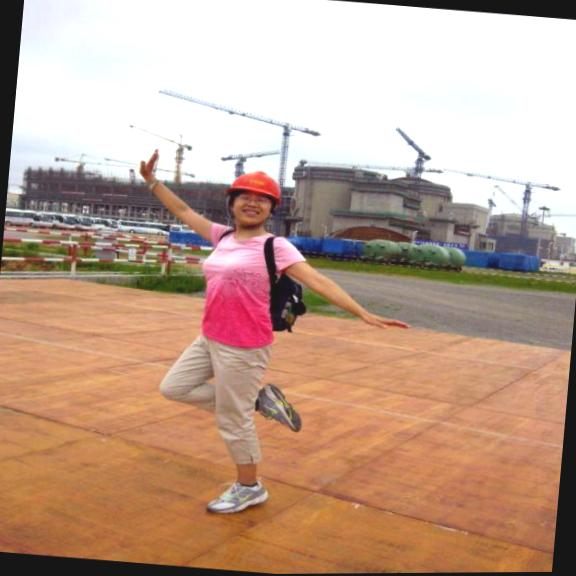no_safety_vest: (180, 229, 302, 350)
